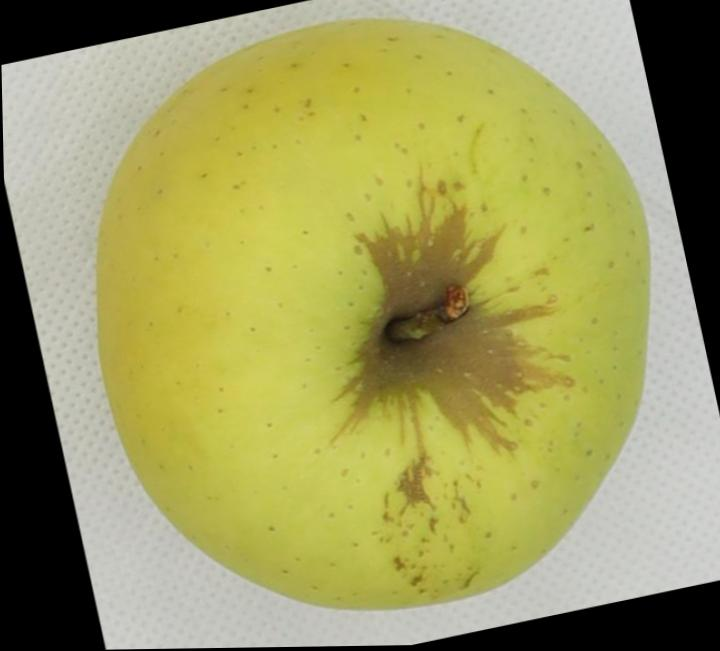apple: (97, 19, 650, 609)
bruise_discoloration: (331, 177, 576, 520)
